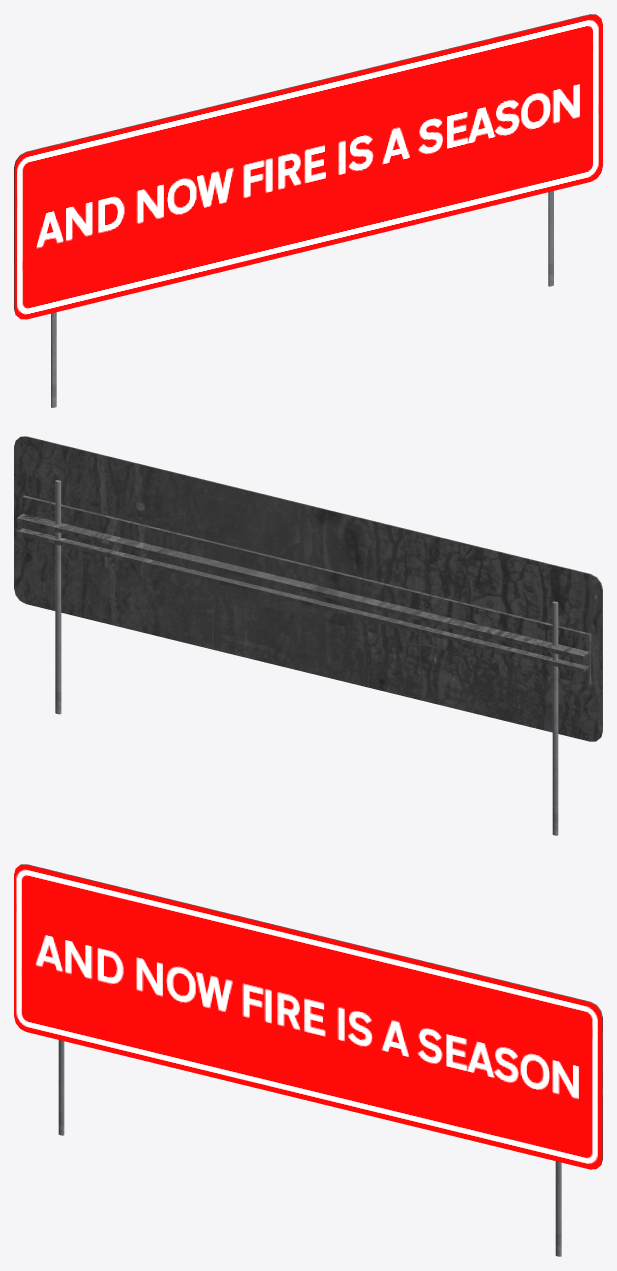
Rendered from fire-season.gltf.
3 renders of one model, top to bottom at view 1: azimuth 30°, elevation 25°; view 2: azimuth 150°, elevation 25°; view 3: azimuth 330°, elevation 25°, orthographic.
Visible parts, largest first — view 1: Sign_S_1.5_.012, PoleA_50.8_2800mm_A_.021, PoleA_50.8_2800mm_A_.022; view 2: Sign_S_1.5_.012, PoleA_50.8_2800mm_A_.022, PoleA_50.8_2800mm_A_.021; view 3: Sign_S_1.5_.012, PoleA_50.8_2800mm_A_.021, PoleA_50.8_2800mm_A_.022.
Part boxes in pixels (x1,y1,x2,y2): Sign_S_1.5_.012: [14, 14, 602, 319]; PoleA_50.8_2800mm_A_.021: [51, 312, 56, 407]; PoleA_50.8_2800mm_A_.022: [548, 191, 553, 286]; Sign_S_1.5_.012: [14, 436, 602, 741]; PoleA_50.8_2800mm_A_.022: [55, 480, 61, 714]; PoleA_50.8_2800mm_A_.021: [552, 601, 558, 835]; Sign_S_1.5_.012: [14, 864, 602, 1169]; PoleA_50.8_2800mm_A_.021: [58, 1040, 64, 1135]; PoleA_50.8_2800mm_A_.022: [555, 1161, 561, 1256].
Bounding box in the file's own units: 3.62 × 1.56 × 0.0926.
8 materials, 8 textured.
